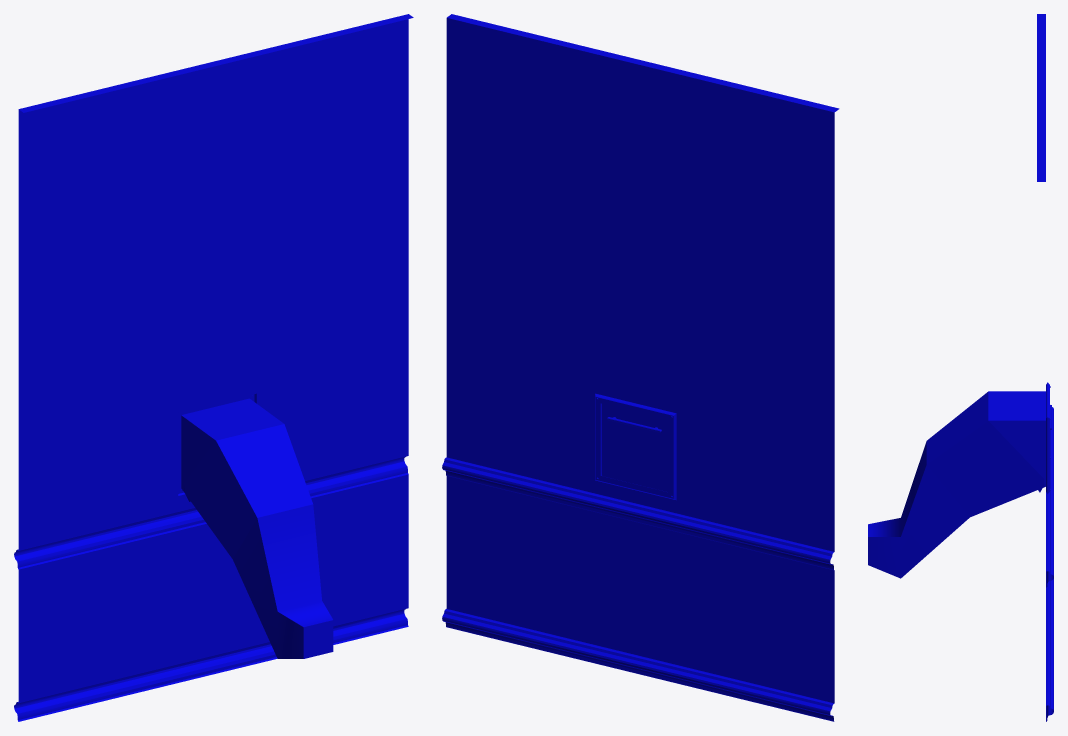
The model's file is SetoModWallLaundryShoot2.fbx.
3 views of the same model, side by side, from view 1: azimuth 30°, elevation 25°; view 2: azimuth 150°, elevation 25°; view 3: azimuth 270°, elevation 25° (orthographic). The views are drawn at different scales.
Visible parts, largest first — view 1: ModWallLaundryShoot2; view 2: ModWallLaundryShoot2, LaundryDoor1; view 3: ModWallLaundryShoot2.
Boxes of the visible parts, x1=… form: ModWallLaundryShoot2: x1=14, y1=14, x2=413, y2=721; ModWallLaundryShoot2: x1=442, y1=14, x2=839, y2=721; LaundryDoor1: x1=602, y1=403, x2=668, y2=492; ModWallLaundryShoot2: x1=868, y1=14, x2=1053, y2=721.
Size of the model in its own units: 240 by 360 by 112.
